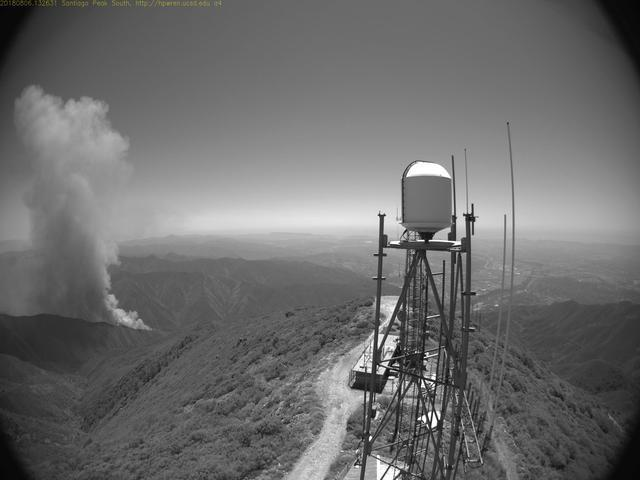Smoke: (0, 83, 152, 336)
